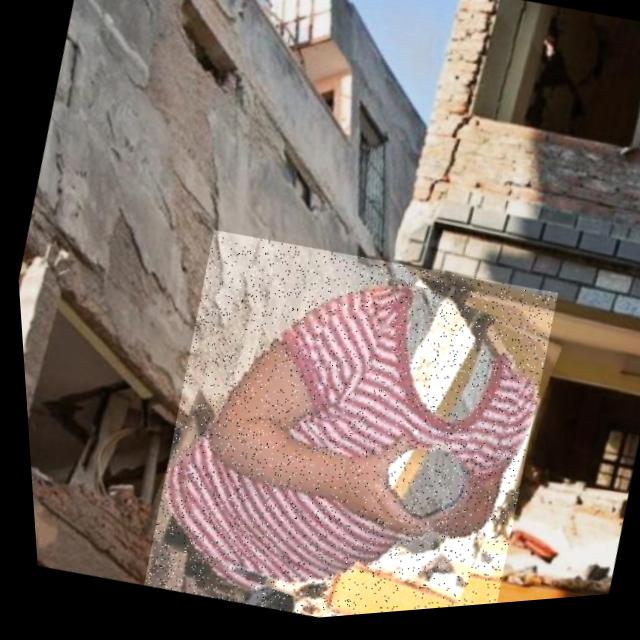Person in Rubble: (117, 212, 569, 633)
